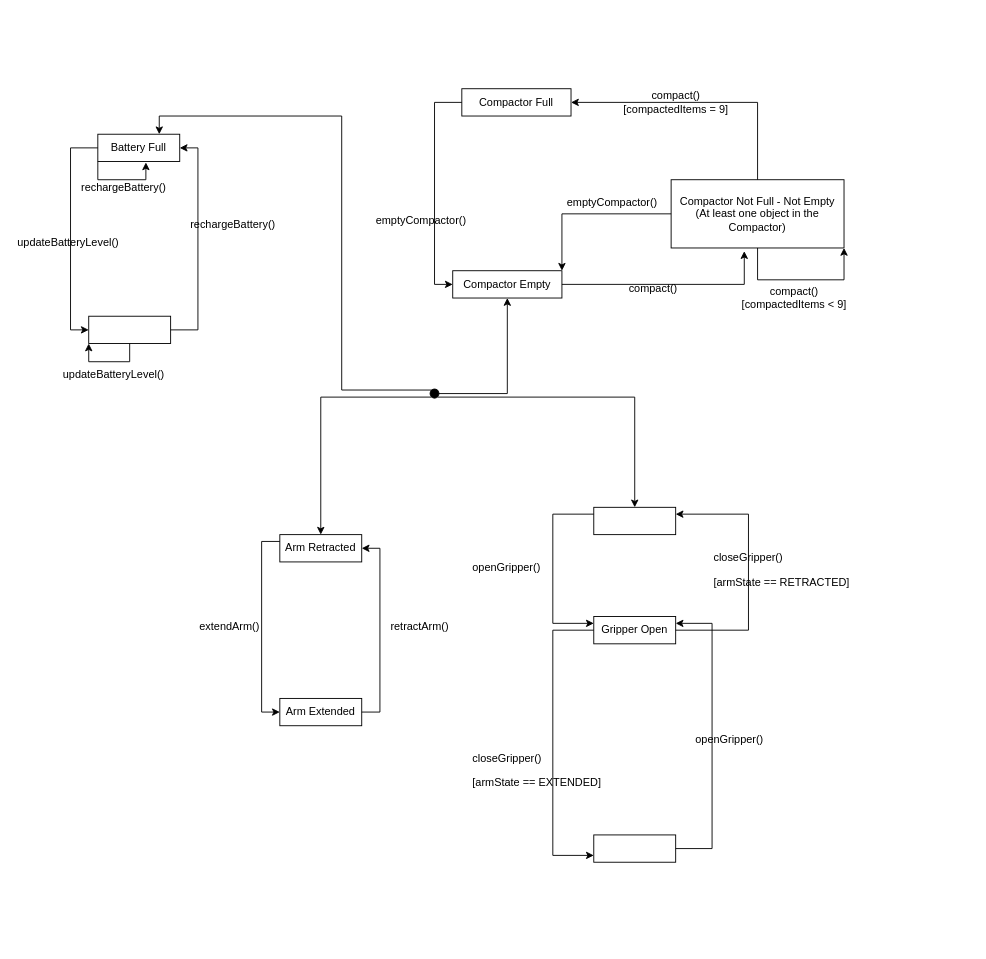
Some shapes in this 986 by 959 pixel diagram are drawn without their labels. The box of each missing label's shape, as (x1, y1, x2, y2) in pixels:
Battery Not Full: (88, 315, 171, 344)
Gripper Empty: (593, 506, 676, 535)
Gripper Holding Object: (593, 834, 676, 862)
